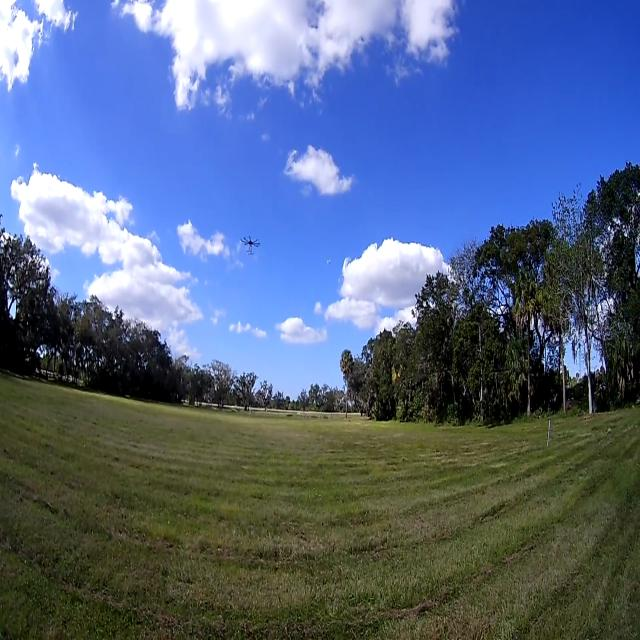drone: (242, 227, 260, 259)
